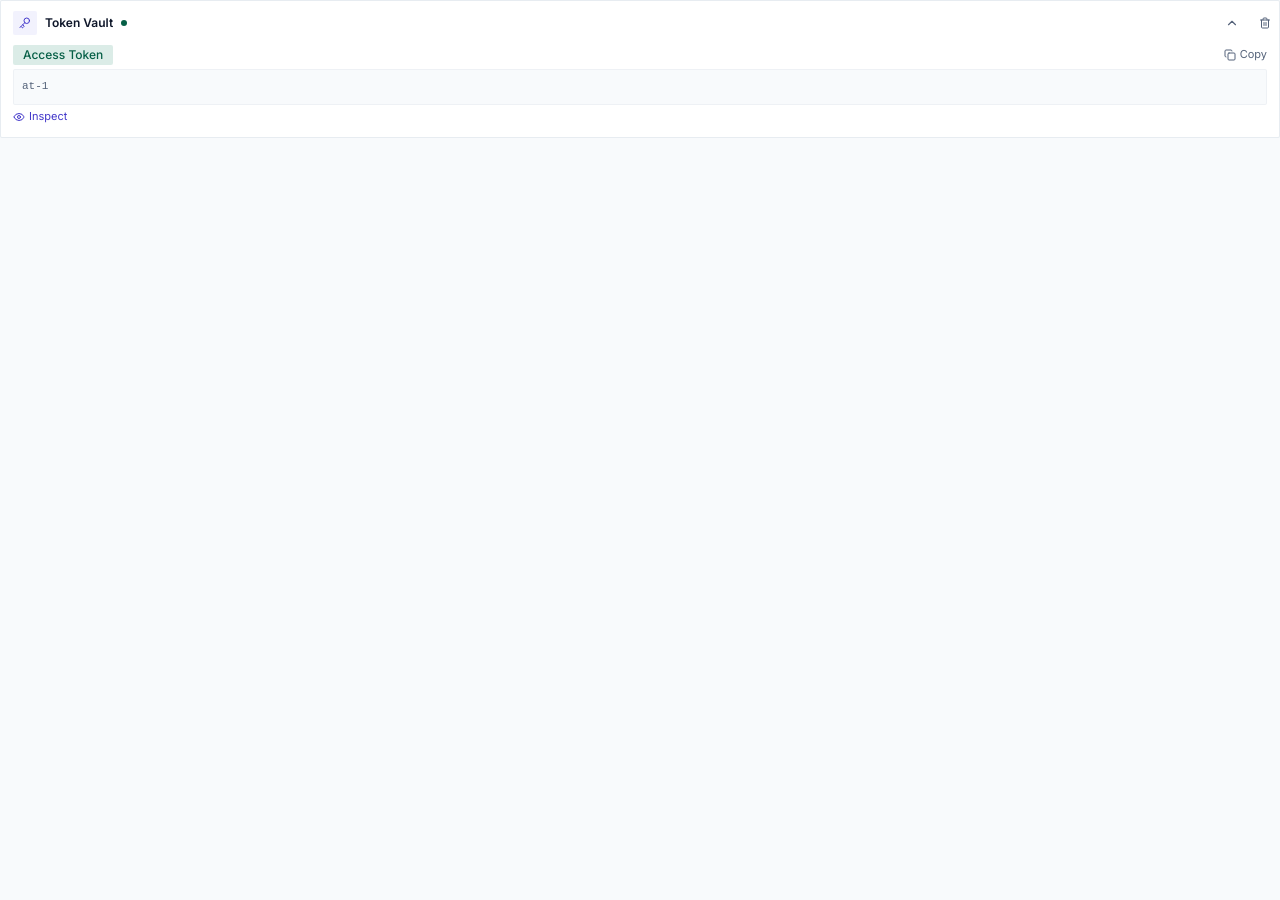
TokenVault — clearing the vault › asks before clearing, and says it removes more than the three visible tokens
The width and height of the screenshot is (1280, 900).
What coordinates should you click on to do the following:
click the button named "Clear tokens"
I would click on:
 (1265, 23)
Its box is [1251,1,1279,45].
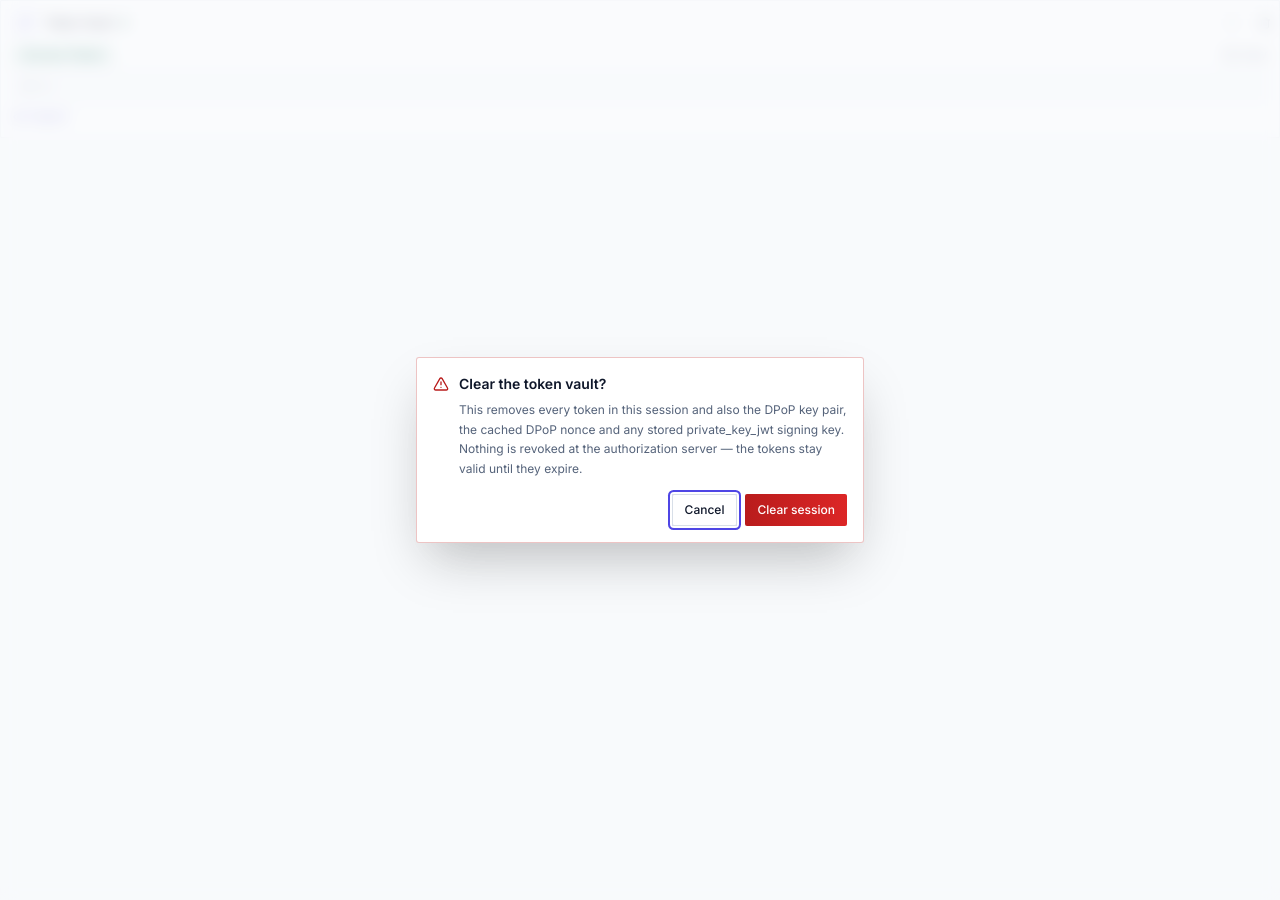
expect the text "Nothing is revoked at the authorization server" is shown: met, box [459,402,846,476]
